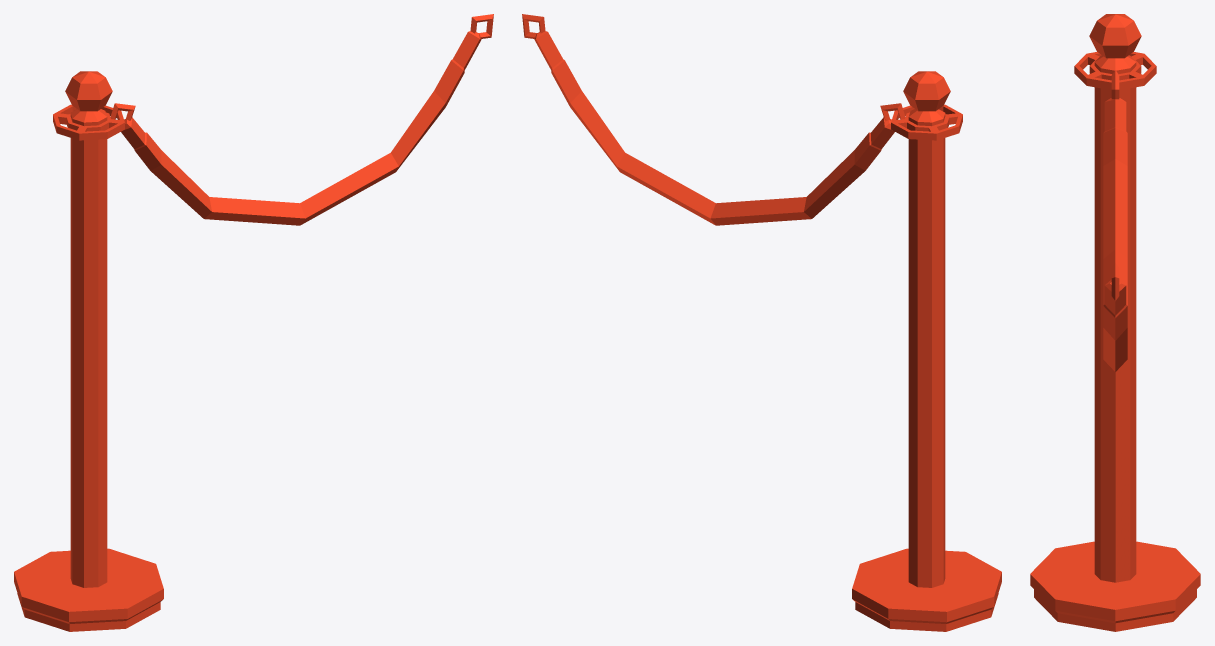
File: SM_Fence_Cinema_A_City.fbx
The picture shows the model from 3 angles, left to right: view 1: azimuth 30°, elevation 25°; view 2: azimuth 150°, elevation 25°; view 3: azimuth 270°, elevation 25°; orthographic projection. The views are drawn at different scales.
Parts seen in each view (by area): view 1: SM_Fence_Cinema_A_City; view 2: SM_Fence_Cinema_A_City; view 3: SM_Fence_Cinema_A_City.
Part boxes in pixels (x1,y1,x2,y2): SM_Fence_Cinema_A_City: [14, 14, 493, 631]; SM_Fence_Cinema_A_City: [522, 14, 1001, 631]; SM_Fence_Cinema_A_City: [1030, 14, 1200, 631].
Size of the model in its own units: 1.11 by 1.2 by 0.3171.
